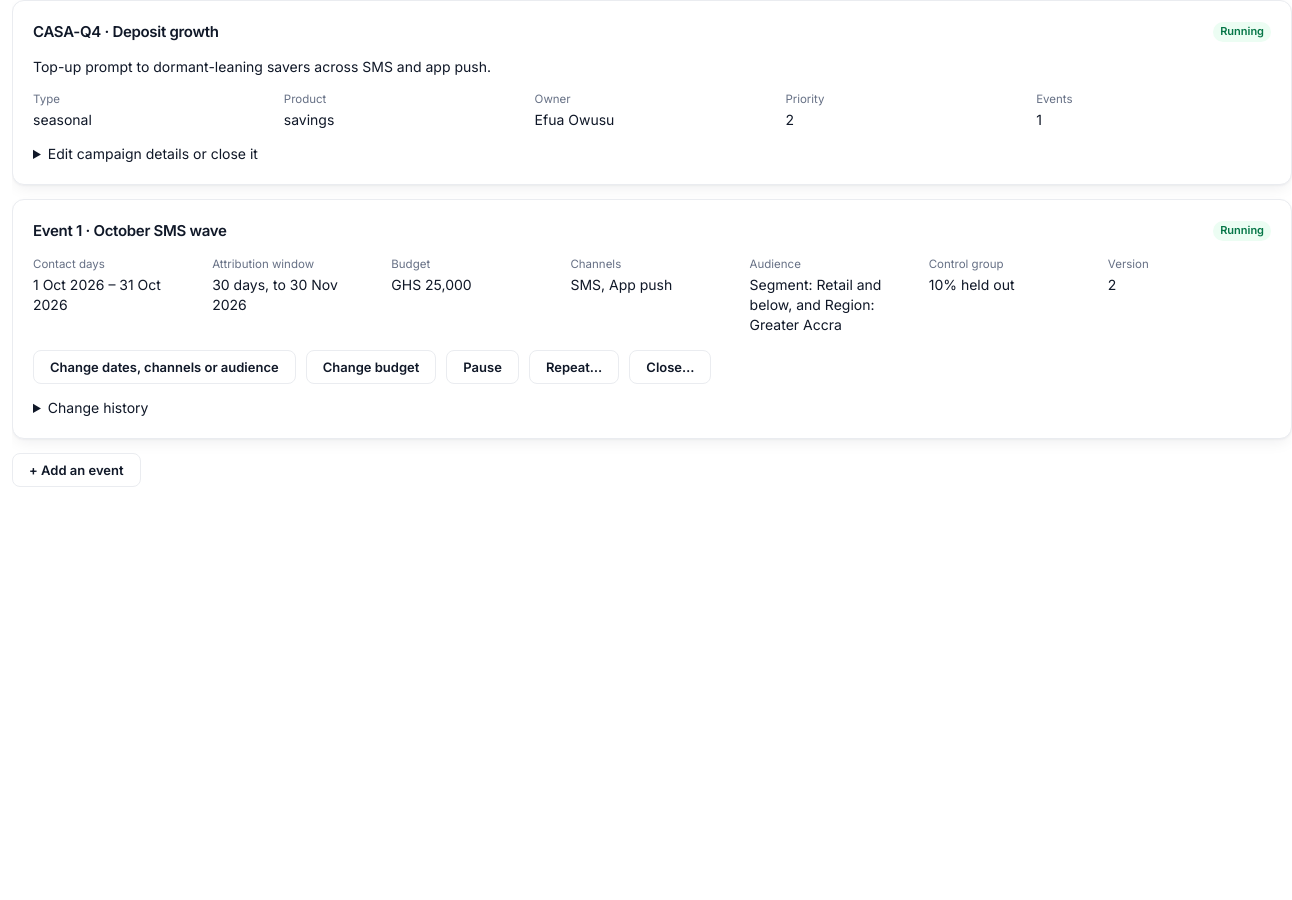
Test case: campaign detail › says a live budget change goes to an approver, and reports the proposal
Click the button "Change budget". click: [371, 367]
box: [306,350,436,384]
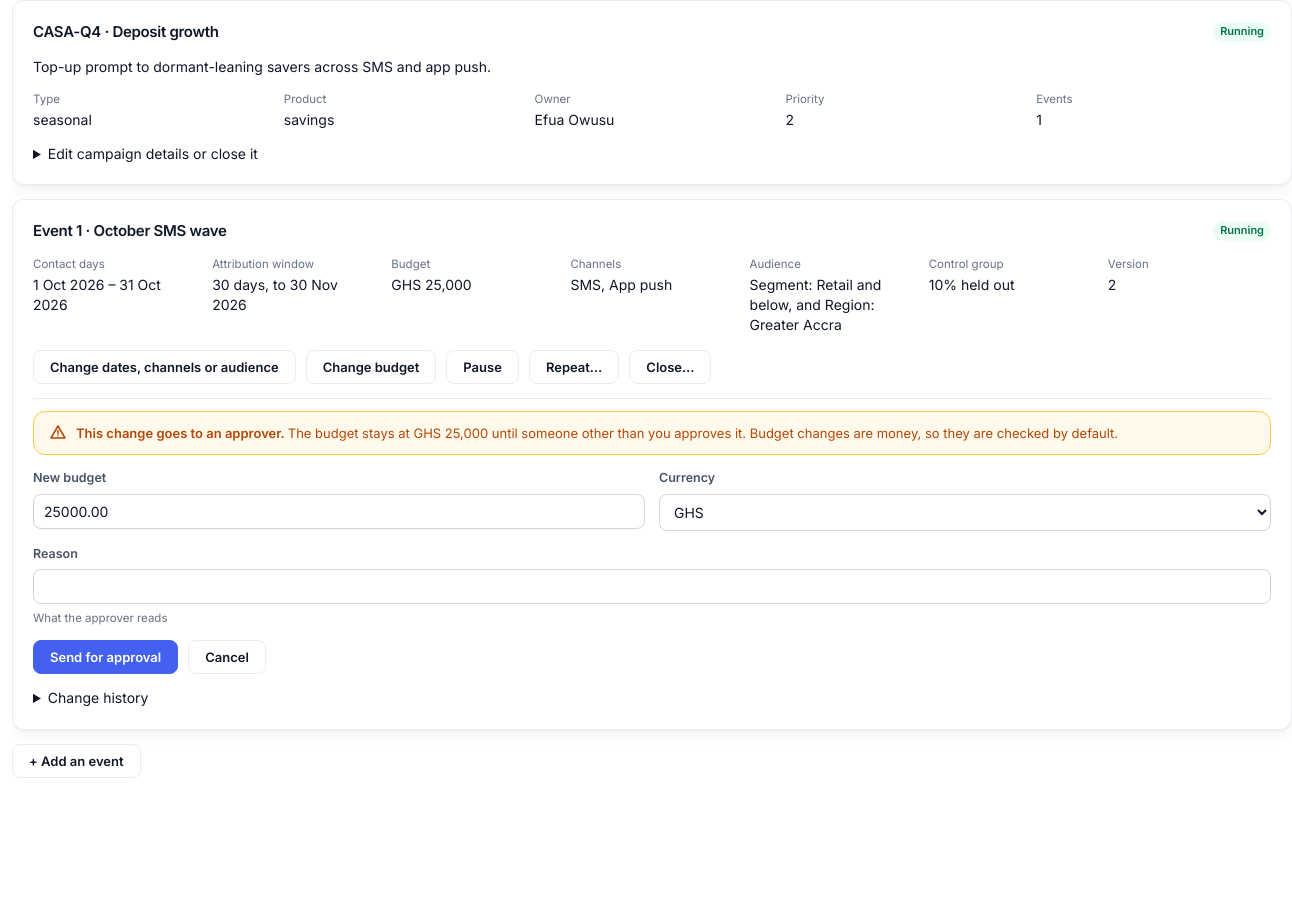
Result: the text "This change goes to an approver." is shown at [76,425,288,441]
Replace the text in the field labelled "New budget" with "30000". click: [339, 511]
box: [33,494,645,529]
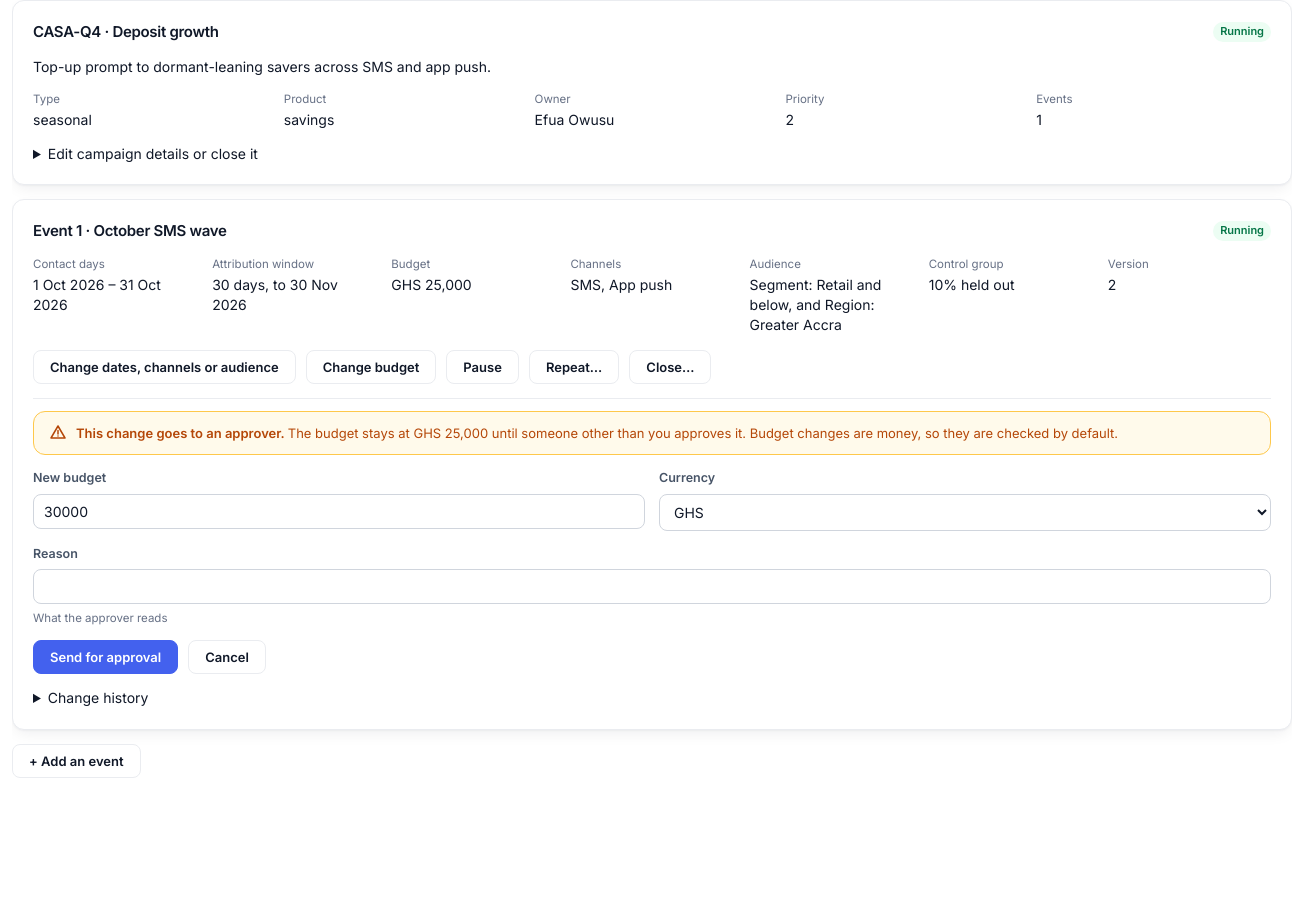
Click the button "Send for approval". click: [106, 657]
box: [33,640,178,674]
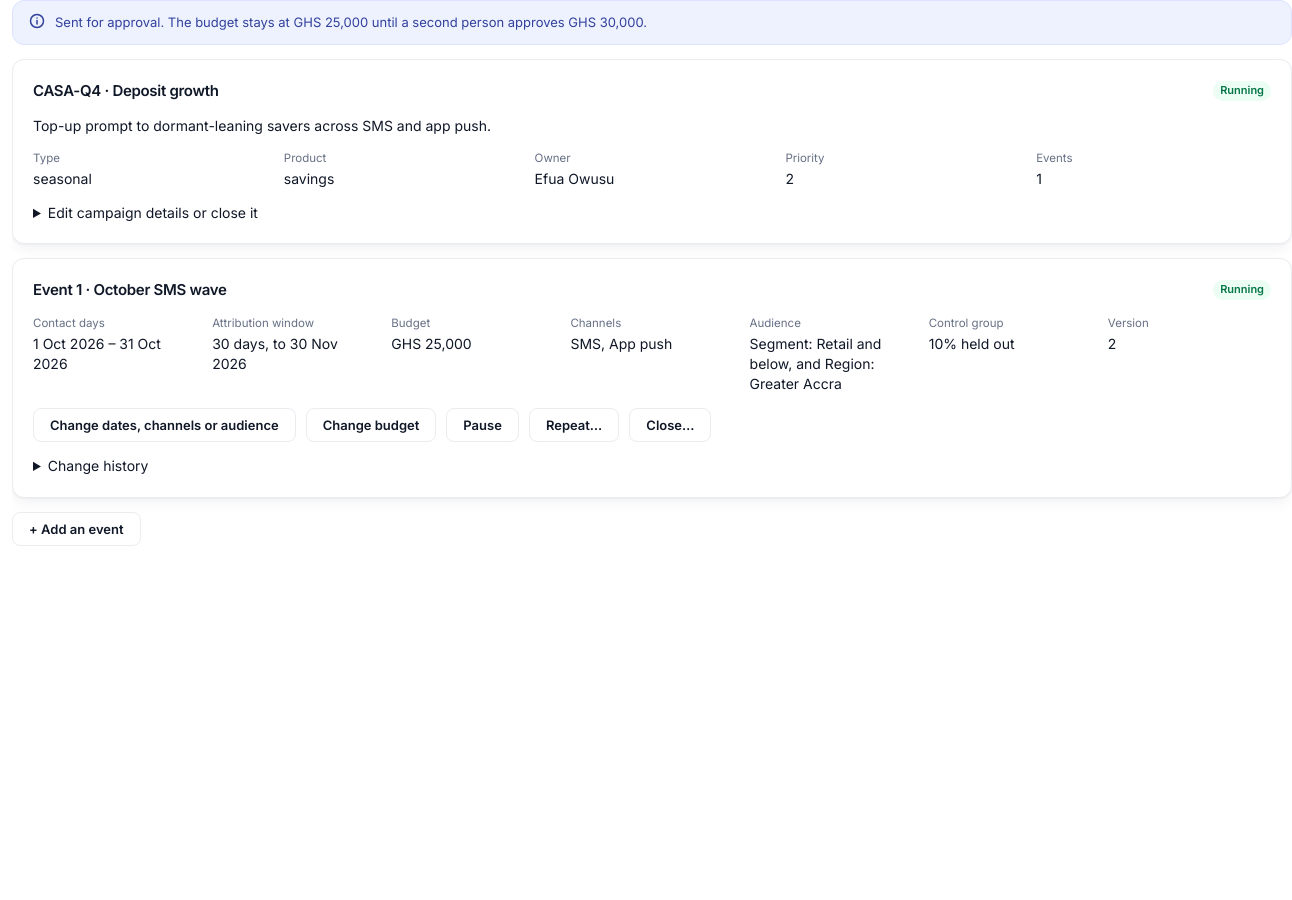
Result: the text "Sent for approval. The budget stays at GHS 25,000" is shown at [55,14,647,30]
